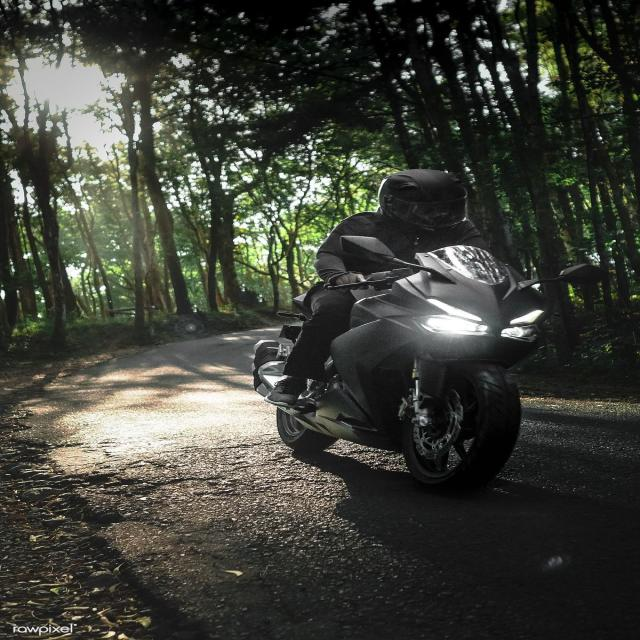Bike: (241, 230, 614, 487)
